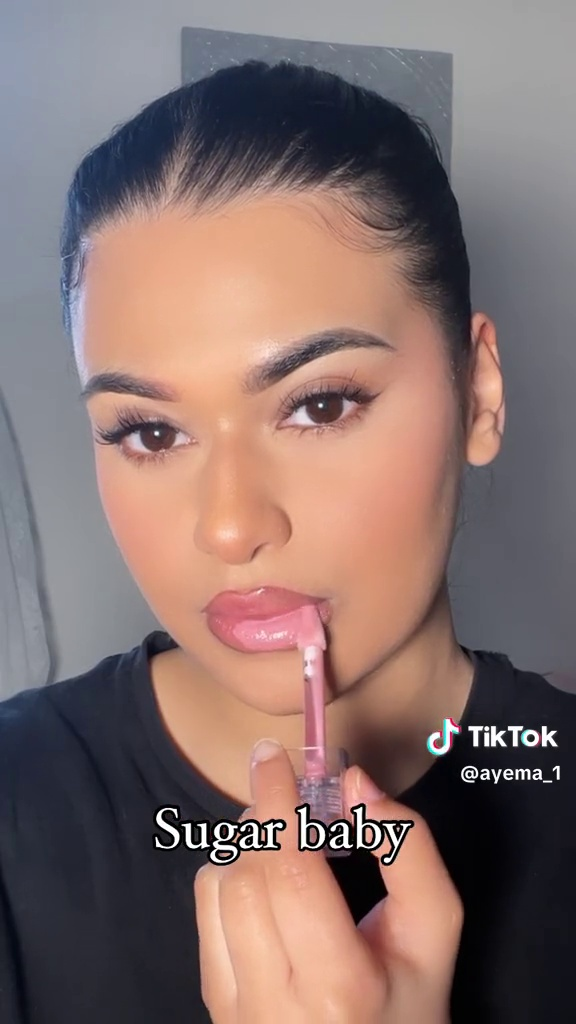train' :'yolo_data/train/images',: (272, 597, 362, 862)
